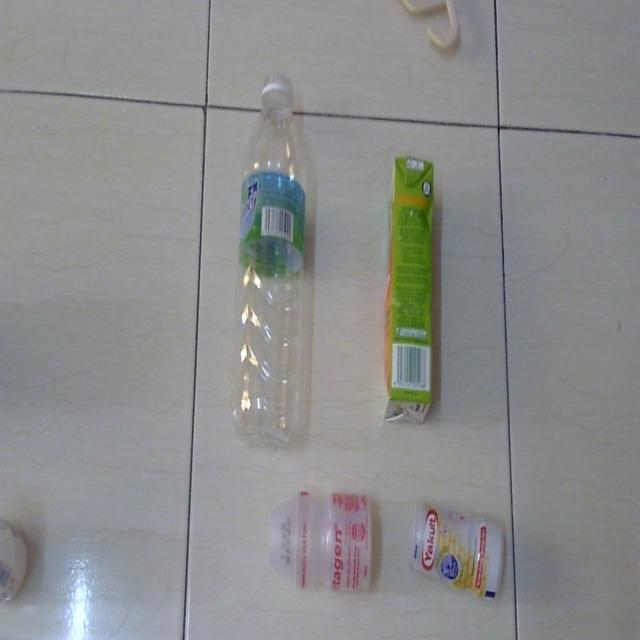plastic_laydown_0rotation: (265, 486, 382, 606), (403, 487, 511, 616)
plastic_laydown_90rotation: (227, 67, 321, 455), (378, 146, 447, 434)
